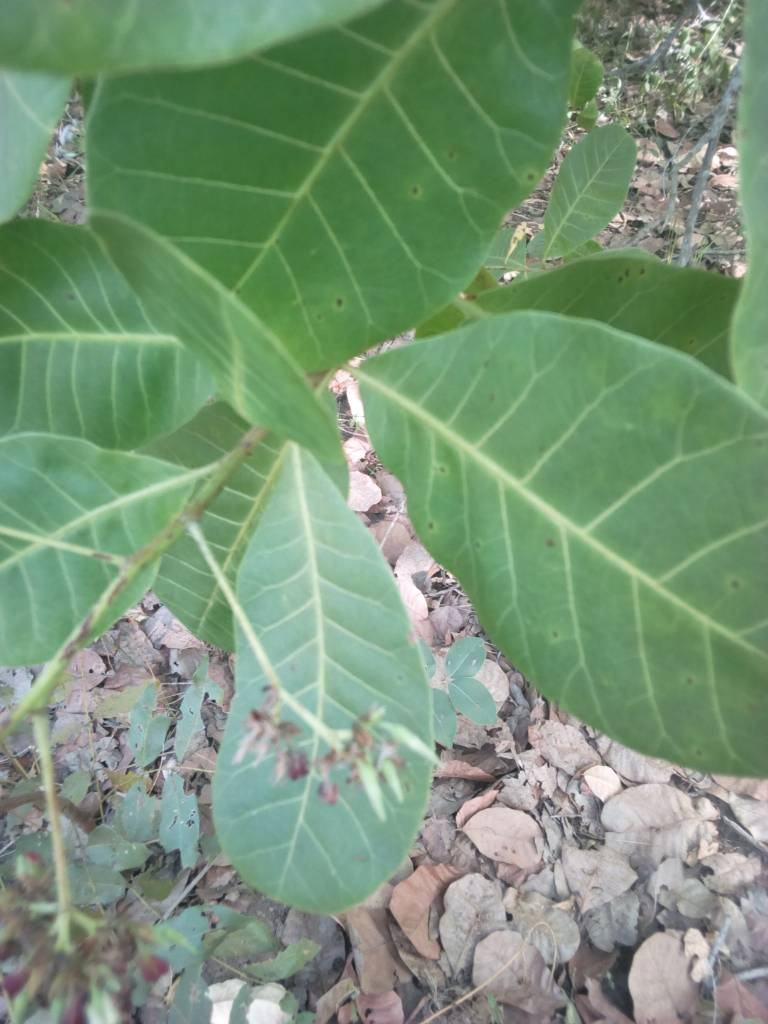Bactériose: (68, 505, 205, 658)
